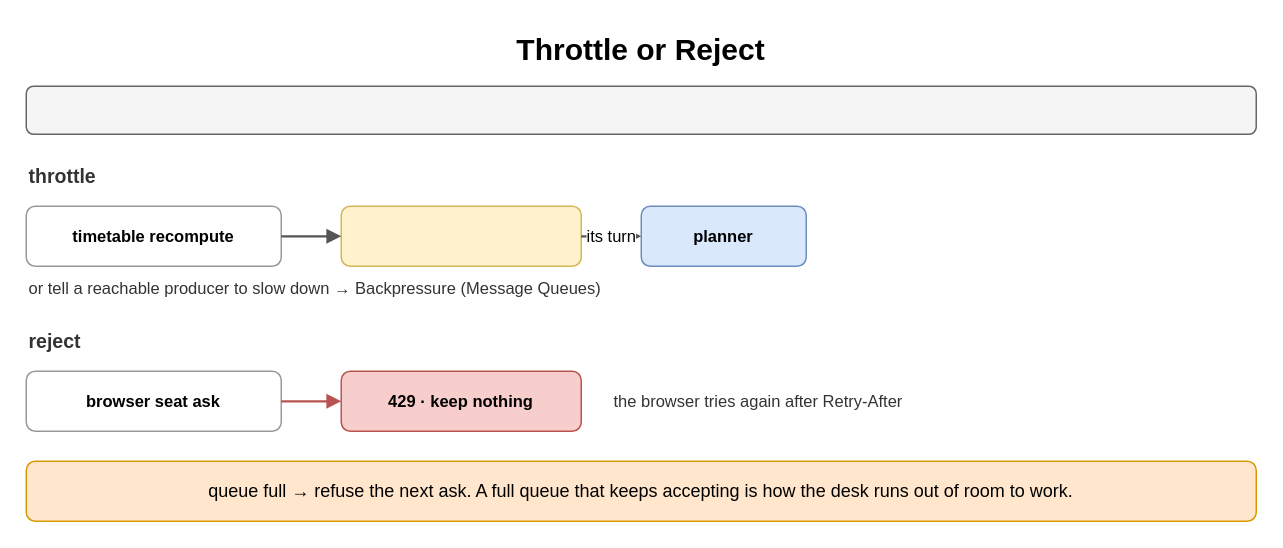
Some shapes in this 1283 by 548 pixel diagram are drawn without their labels. Each missing label, with the centre of its shape:
Past the budget: slow the work, or refuse the ask: the point at 640,109
short queue (room): the point at 460,235
